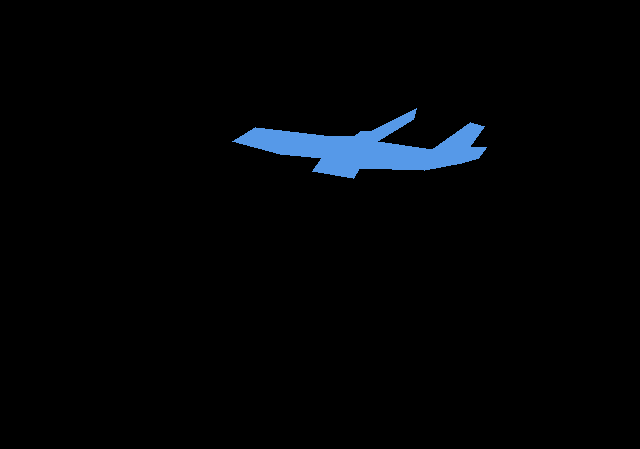Airplane: (232, 108, 486, 179)
